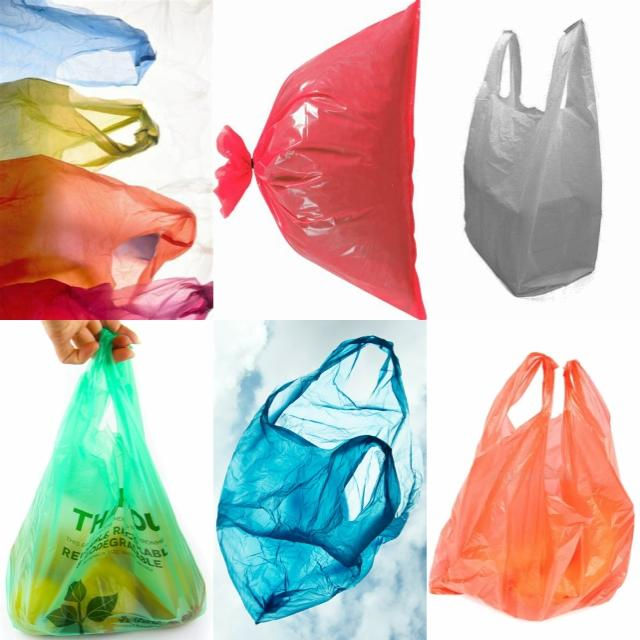Single-layer Plastic: (215, 0, 425, 319), (8, 330, 205, 635), (218, 336, 421, 623), (430, 352, 634, 620), (464, 20, 601, 296), (0, 0, 159, 170), (0, 155, 196, 288), (0, 0, 155, 87), (0, 278, 212, 320)
